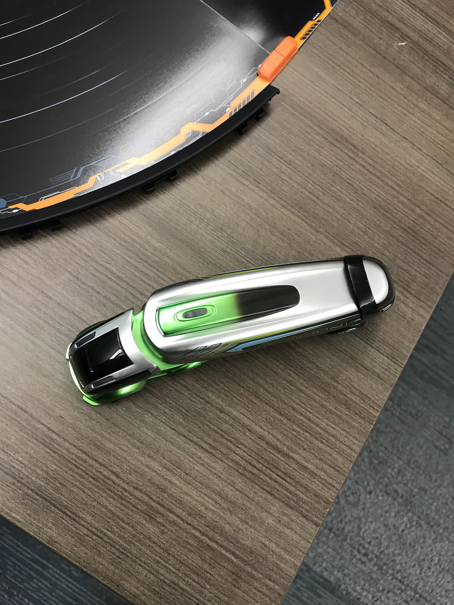Freewheel: (65, 254, 397, 406)
